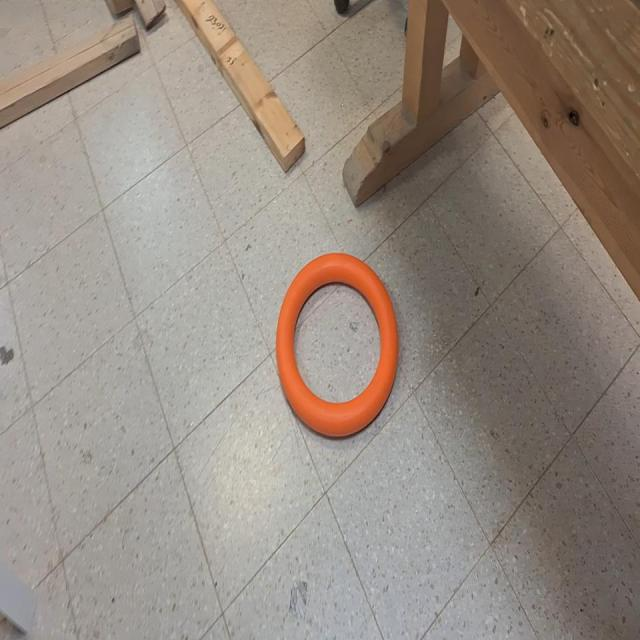note: (277, 250, 400, 439)
